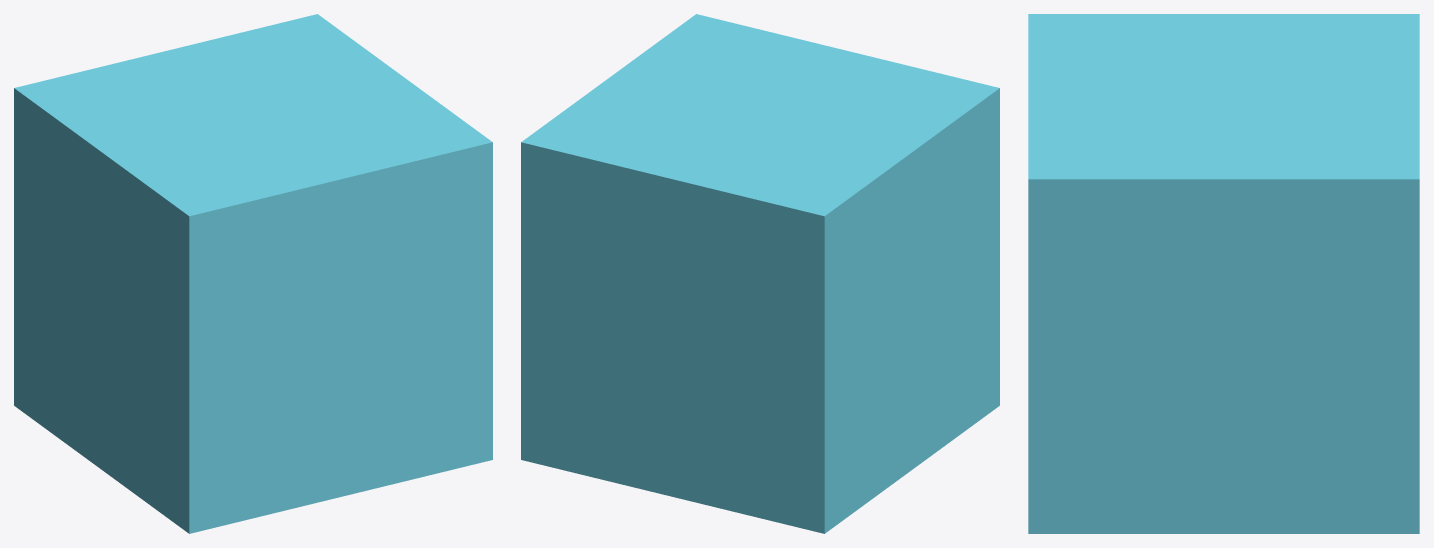
The model's file is Hill.obj.
3 renders of one model, left to right at view 1: azimuth 30°, elevation 25°; view 2: azimuth 150°, elevation 25°; view 3: azimuth 270°, elevation 25°, orthographic. The views are drawn at different scales.
Parts seen in each view (by area): view 1: Grass; view 2: Grass; view 3: Grass.
Boxes of the visible parts, box(x1,y1,x2,y2) form: Grass: box(14, 14, 492, 533); Grass: box(521, 14, 999, 533); Grass: box(1028, 14, 1419, 533).
Bounding box in the file's own units: 4 × 4 × 4.
1 material, 1 textured.
